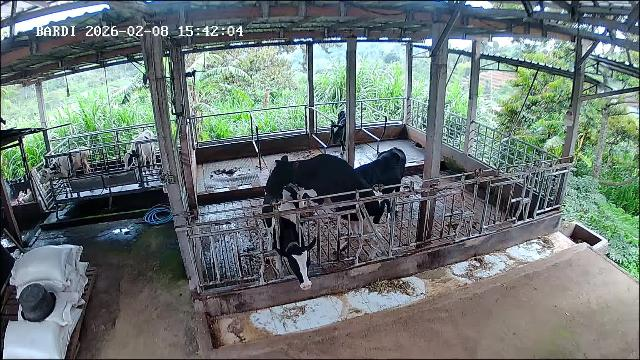mounting: (265, 155, 382, 253)
